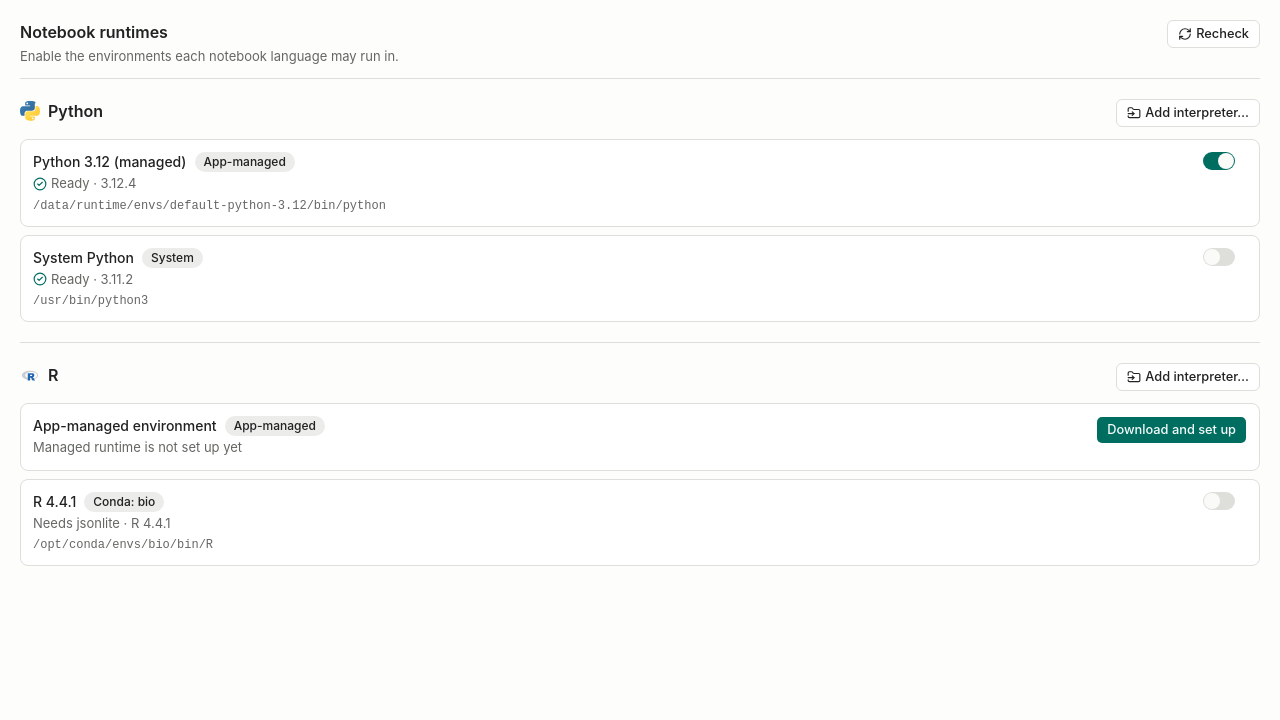
Scenario: RuntimesPanel › exposes app-managed acquisition with a failed CDN attempt and retry affordance
Click the button "Download and set up" at (1172, 430), box [1096,416,1247,444]
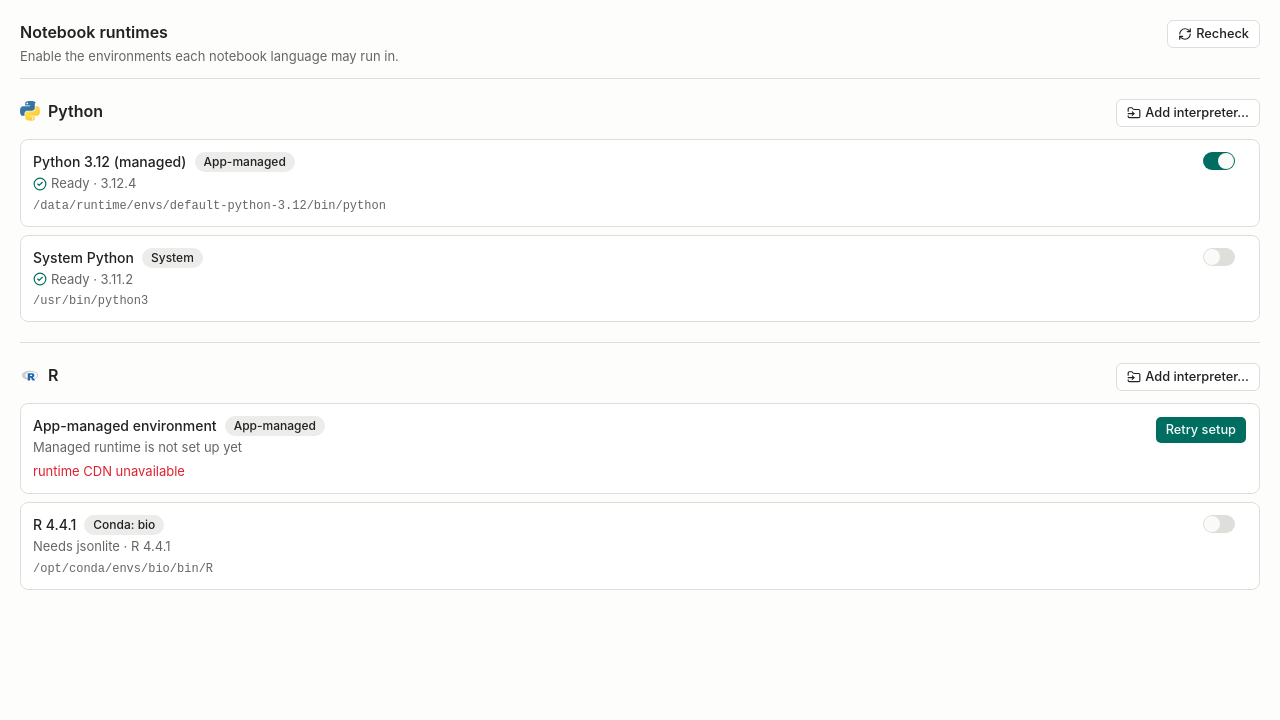
Expected: the message with test id "runtimes-provision-error-r" reads "runtime CDN unavailable", [33,462,185,478]
